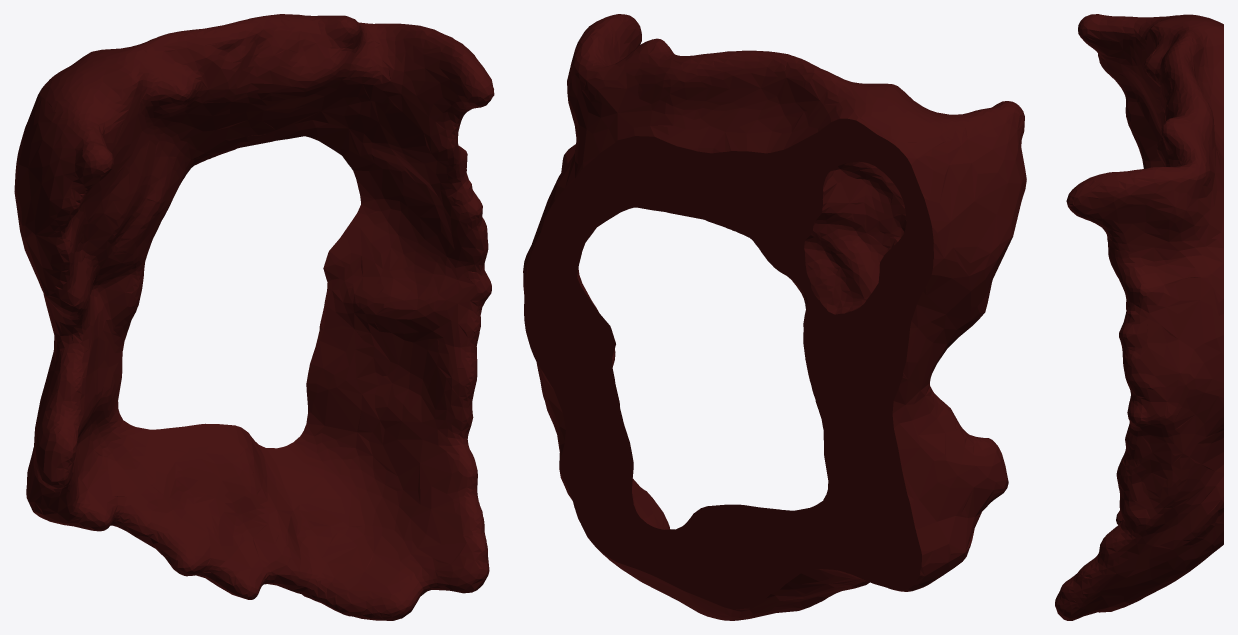
The model's file is mountains123.obj.
3 views of the same model, side by side, from view 1: azimuth 30°, elevation 25°; view 2: azimuth 150°, elevation 25°; view 3: azimuth 270°, elevation 25° (orthographic). The views are drawn at different scales.
Visible parts, largest first — view 1: Object.1; view 2: Object.1; view 3: Object.1.
Part boxes in pixels (box(x1,y1,x2,y2)): Object.1: box(14, 14, 494, 620); Object.1: box(523, 14, 1026, 620); Object.1: box(1055, 14, 1223, 620).
Bounding box in the file's own units: 29.6 × 36.27 × 10.97.
